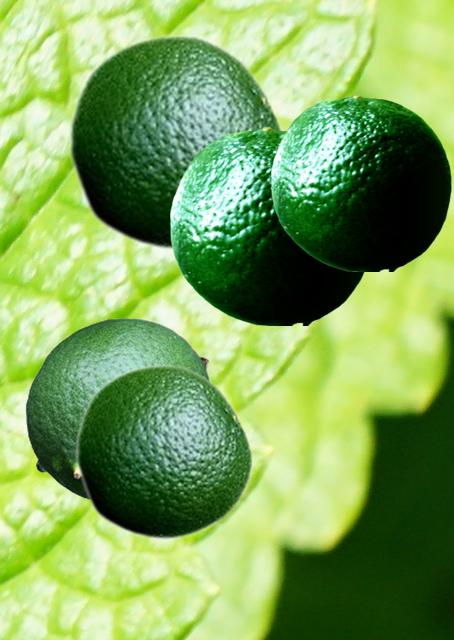calamansi: (67, 33, 286, 251), (170, 126, 365, 324), (25, 317, 213, 501), (74, 363, 253, 540), (271, 94, 450, 270)
